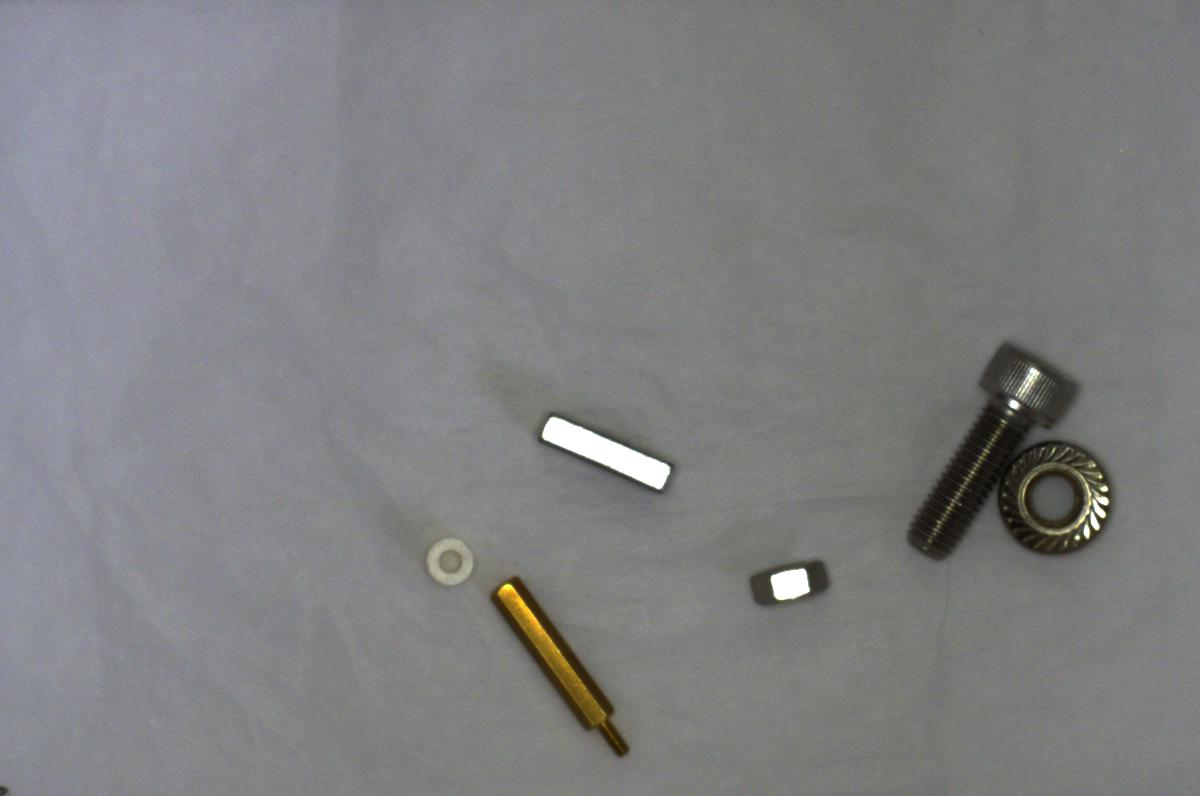Flange nut: (993, 434, 1121, 562)
Hexagon nut: (740, 539, 832, 609)
Hexagon pillar: (482, 569, 645, 765)
Hexagon screw: (900, 333, 1077, 559)
Plastic cushion pillar: (417, 528, 479, 589)
Rectangular nut: (534, 409, 678, 492)
